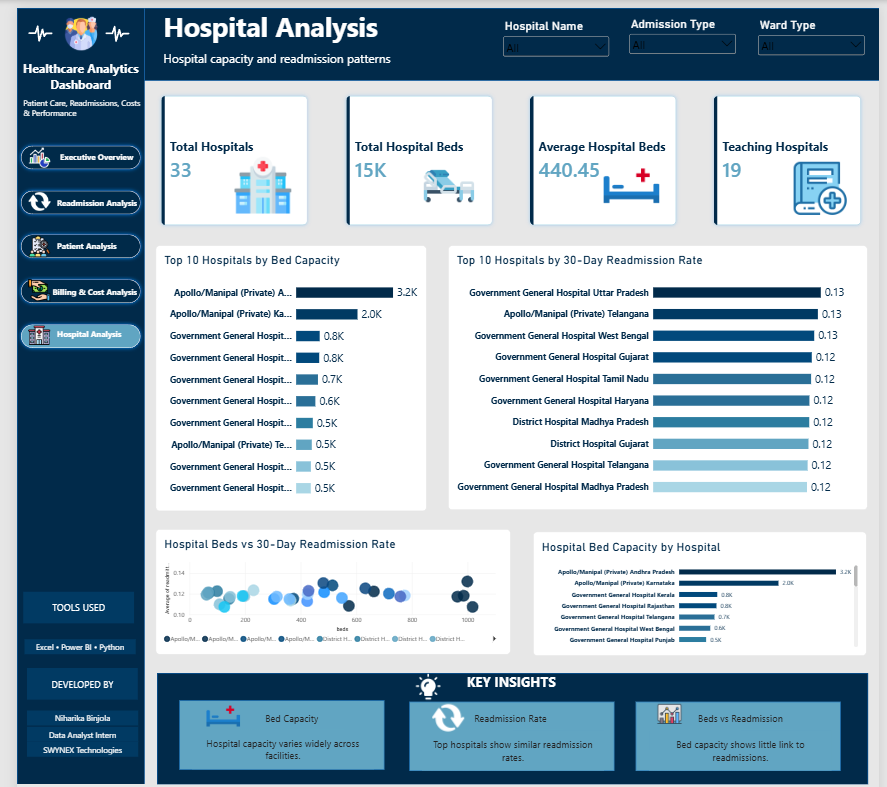

The dashboard page shown, as its layout file describes it:
{"tool":"powerbi","page":{"name":"Hospital Analysis","canvas":[1725,1584],"ordinal":4},"visuals":[{"type":"cardVisual","fields":{"Data":["Count(hospitals_cleaned.hospital_id)"]},"box":[278.6,164.3,314.3,281],"z":0},{"type":"cardVisual","fields":{"Data":["Sum(hospitals_cleaned.beds)"]},"box":[646.8,164.3,314.3,281],"z":1000},{"type":"cardVisual","fields":{"Data":["Avg(hospitals_cleaned.beds)"]},"box":[1015.1,164.3,314.3,281],"z":2000},{"type":"barChart","title":"Top 10 Hospitals by Bed Capacity","fields":{"Category":["hospitals_cleaned.name"],"Y":["Sum(hospitals_cleaned.beds)"]},"box":[278.6,476.2,541.3,531],"z":3000},{"type":"clusteredBarChart","title":"Top 10 Hospitals by 30-Day Readmission Rate","fields":{"Category":["hospitals_cleaned.name"],"Y":["Avg(admissions_cleaned.readmitted_30d)"]},"box":[861.9,476.2,838.1,528.6],"z":4000},{"type":"scatterChart","title":"Hospital Beds vs 30-Day Readmission Rate","fields":{"Series":["hospitals_cleaned.name"],"X":["hospitals_cleaned.beds"],"Y":["Avg(admissions_cleaned.readmitted_30d)"]},"box":[278.2,1043.6,709.5,250],"z":5000},{"type":"barChart","title":"Hospital Bed Capacity by Hospital","fields":{"Category":["hospitals_cleaned.name"],"Y":["Sum(hospitals_cleaned.beds)"]},"box":[1033.3,1047.6,666.7,247.6],"z":6000},{"type":"shape","box":[0,0,255.6,1553.3],"z":7000},{"type":"image","box":[92.4,18.5,71.7,67.4],"z":8000},{"type":"textbox","box":[0,104,255,74],"z":9000},{"type":"image","box":[12,18.5,68.5,67.4],"z":10000},{"type":"image","box":[167.4,18.5,66.3,67.4],"z":11000},{"type":"textbox","box":[12,178,243,47],"z":12000},{"type":"shape","box":[0,268,255,63],"z":13000},{"type":"image","box":[19,278,51,44],"z":14000},{"type":"textbox","box":[61.4,268,193.8,62.9],"z":15000},{"type":"shape","box":[0,357,255,63],"z":16000},{"type":"image","box":[20,366,51,44],"z":17000},{"type":"shape","box":[0,446,255,63],"z":18000},{"type":"image","box":[19,454.4,50.3,44.2],"z":19000},{"type":"textbox","box":[81,444.9,174.1,63.3],"z":20000},{"type":"shape","box":[0,535,255,63],"z":21000},{"type":"image","box":[20,543.5,49.5,44],"z":22000},{"type":"shape","box":[0,624,255,63],"z":23000},{"type":"image","box":[19.3,633.1,49.4,44],"z":24000},{"type":"textbox","box":[373,0,280,196],"z":25000},{"type":"textbox","box":[80.8,623.7,174.4,62.8],"z":26000},{"type":"shape","box":[254.8,0,1471.4,145.2],"z":27000},{"type":"textbox","box":[292.9,0,597.6,73.8],"z":28000},{"type":"textbox","box":[1252,766,298,242],"z":29000},{"type":"textbox","box":[291.8,85.7,528.6,55.1],"z":30000},{"type":"slicer","fields":{"Values":["hospitals_cleaned.name"]},"box":[966.7,21.4,221.4,83.3],"z":31000},{"type":"cardVisual","fields":{"Data":["Count(hospitals_cleaned.hospital_id)"]},"box":[1383.3,164.3,316.7,281],"z":34000},{"type":"image","box":[435.6,297.8,113.3,113.3],"z":35000},{"type":"image","box":[806.7,300,113.3,111.1],"z":36000},{"type":"image","box":[1550,306.2,112.5,106.2],"z":37000},{"type":"image","box":[1173.3,300,113.3,111.1],"z":38000},{"type":"shape","box":[280,1328.9,1422.2,224.4],"z":39000},{"type":"textbox","box":[277.4,1329,1422.6,54.8],"z":40000},{"type":"shape","box":[783.9,1387.1,409.7,138.7],"z":41000},{"type":"shape","box":[1238.7,1387.1,409.7,138.7],"z":42000},{"type":"shape","box":[325.8,1383.9,409.7,138.7],"z":43000},{"type":"shape","box":[444.6,1398.2,209.1,45.5],"z":44000},{"type":"shape","box":[883.6,1396.4,209.1,45.5],"z":45000},{"type":"shape","box":[1341.8,1396.4,209.1,45.5],"z":46000},{"type":"shape","box":[349.1,1441.8,363.6,80],"z":47000},{"type":"shape","box":[809.1,1445.5,363.6,80],"z":48000},{"type":"shape","box":[1265.5,1445.5,363.6,80],"z":49000},{"type":"image","box":[1265.5,1383.6,80,58.2],"z":50000},{"type":"image","box":[823.6,1387.3,80,63.6],"z":51000},{"type":"image","box":[372.7,1383.6,80,67.3],"z":52000},{"type":"image","box":[781.8,1329.1,80,54.5],"z":53000},{"type":"slicer","fields":{"Values":["admissions_cleaned.admit_type"]},"box":[1220,17.5,222.5,92.5],"z":53001},{"type":"slicer","fields":{"Values":["admissions_cleaned.ward_type"]},"box":[1477.5,20,222.5,92.5],"z":53002},{"type":"shape","box":[19.5,1468.3,222.5,30],"z":53003},{"type":"shape","box":[19.5,1404.9,222.5,30],"z":53004},{"type":"shape","box":[19.5,1436.6,222.5,30],"z":53005},{"type":"shape","box":[19.5,1319.5,222,63.4],"z":53006},{"type":"shape","box":[12.5,1167.5,222,63.4],"z":53007},{"type":"shape","box":[15,1262.5,222.5,30],"z":53008}]}

Visuals, with their boxes on the page's 1725x1584 design canvas (x1, y1, x2, y2). These are canvas units, not pixel positions in the 887x787 screenshot, which may show the page scaled, cropped or inside an application window:
cardVisual - Count(hospitals_cleaned.hospital_id): [279,164,593,445]
cardVisual - Sum(hospitals_cleaned.beds): [647,164,961,445]
cardVisual - Avg(hospitals_cleaned.beds): [1015,164,1329,445]
"Top 10 Hospitals by Bed Capacity" barChart: [279,476,820,1007]
"Top 10 Hospitals by 30-Day Readmission Rate" clusteredBarChart: [862,476,1700,1005]
"Hospital Beds vs 30-Day Readmission Rate" scatterChart: [278,1044,988,1294]
"Hospital Bed Capacity by Hospital" barChart: [1033,1048,1700,1295]
shape: [0,0,256,1553]
image: [92,18,164,86]
textbox: [0,104,255,178]
image: [12,18,80,86]
image: [167,18,234,86]
textbox: [12,178,255,225]
shape: [0,268,255,331]
image: [19,278,70,322]
textbox: [61,268,255,331]
shape: [0,357,255,420]
image: [20,366,71,410]
shape: [0,446,255,509]
image: [19,454,69,499]
textbox: [81,445,255,508]
shape: [0,535,255,598]
image: [20,544,70,588]
shape: [0,624,255,687]
image: [19,633,69,677]
textbox: [373,0,653,196]
textbox: [81,624,255,686]
shape: [255,0,1726,145]
textbox: [293,0,890,74]
textbox: [1252,766,1550,1008]
textbox: [292,86,820,141]
slicer - hospitals_cleaned.name: [967,21,1188,105]
cardVisual - Count(hospitals_cleaned.hospital_id): [1383,164,1700,445]
image: [436,298,549,411]
image: [807,300,920,411]
image: [1550,306,1662,412]
image: [1173,300,1287,411]
shape: [280,1329,1702,1553]
textbox: [277,1329,1700,1384]
shape: [784,1387,1194,1526]
shape: [1239,1387,1648,1526]
shape: [326,1384,736,1523]
shape: [445,1398,654,1444]
shape: [884,1396,1093,1442]
shape: [1342,1396,1551,1442]
shape: [349,1442,713,1522]
shape: [809,1446,1173,1526]
shape: [1266,1446,1629,1526]
image: [1266,1384,1346,1442]
image: [824,1387,904,1451]
image: [373,1384,453,1451]
image: [782,1329,862,1384]
slicer - admissions_cleaned.admit_type: [1220,18,1442,110]
slicer - admissions_cleaned.ward_type: [1478,20,1700,112]
shape: [20,1468,242,1498]
shape: [20,1405,242,1435]
shape: [20,1437,242,1467]
shape: [20,1320,242,1383]
shape: [12,1168,234,1231]
shape: [15,1262,238,1292]
